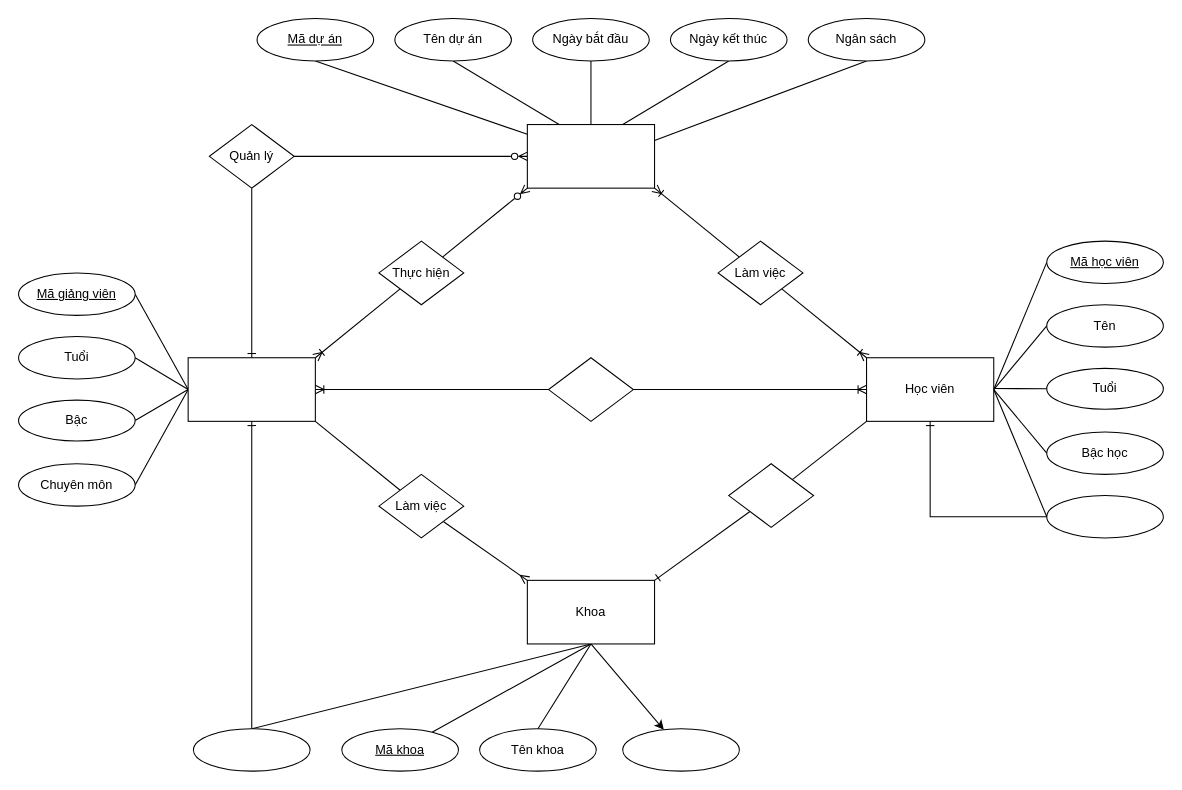
Image size: 1182x790. Some labels were removed from this diagram. Here are the shapes that lost their labels. From the top down, the centre of each, then its label:
pixel 590 155: Dự án
pixel 251 389: Giáo sư
pixel 590 389: Hỗ trợ
pixel 771 495: Thuộc
pixel 1104 516: Người hỗ trợ
pixel 251 749: Trưởng khoa
pixel 680 749: Trụ sở
